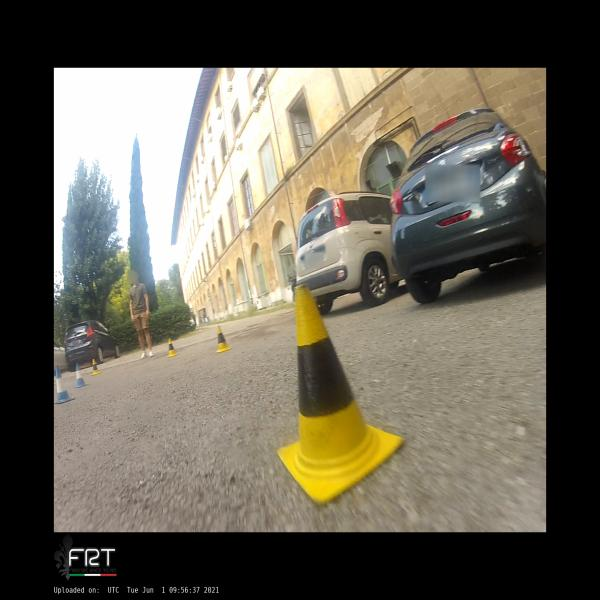blue_cone: (54, 366, 75, 403), (74, 362, 88, 387)
yellow_cone: (277, 284, 403, 505), (215, 325, 232, 353), (166, 338, 179, 357), (91, 359, 102, 375)
